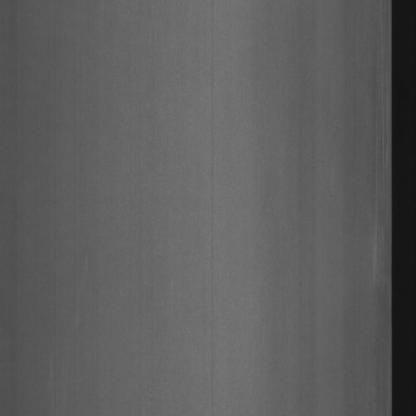silk_spot: (370, 23, 390, 273)
